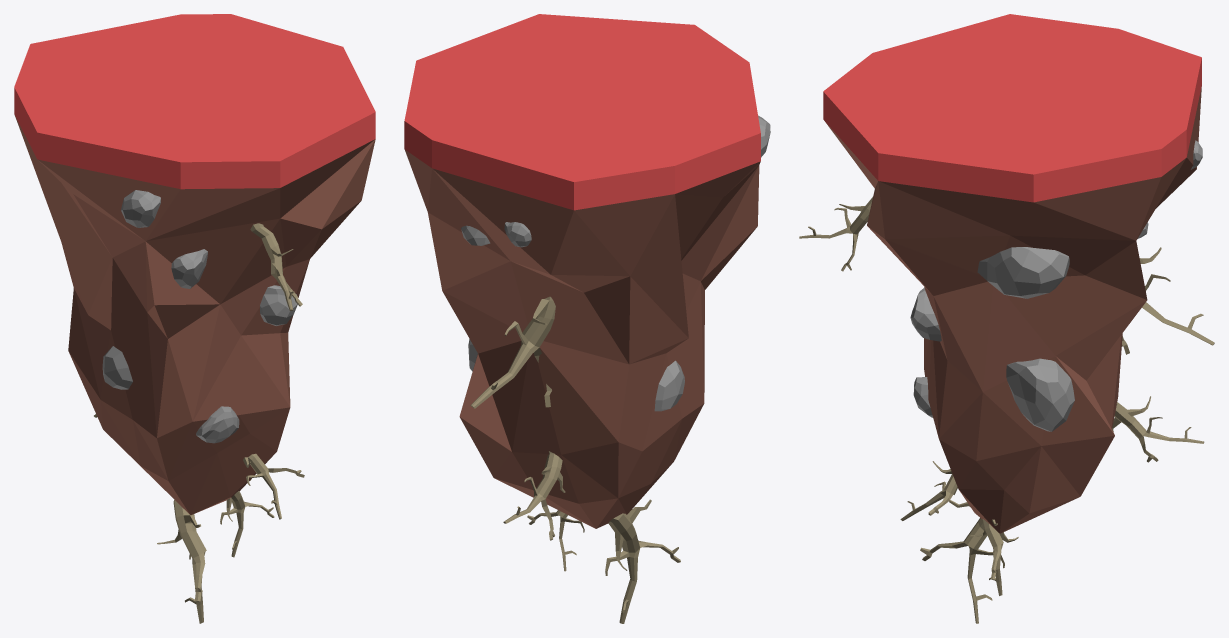
Rendered from 01_03Island_Red.fbx.
The picture shows the model from 3 angles, left to right: view 1: azimuth 30°, elevation 25°; view 2: azimuth 150°, elevation 25°; view 3: azimuth 270°, elevation 25°; orthographic projection. The views are drawn at different scales.
Parts seen in each view (by area): view 1: Cube.017; view 2: Cube.017; view 3: Cube.017.
Boxes of the visible parts, x1,y1,x2,y2 form: Cube.017: (14,14,375,623); Cube.017: (404,14,770,623); Cube.017: (799,14,1214,623).
Size of the model in its own units: 855 by 1327 by 935.
